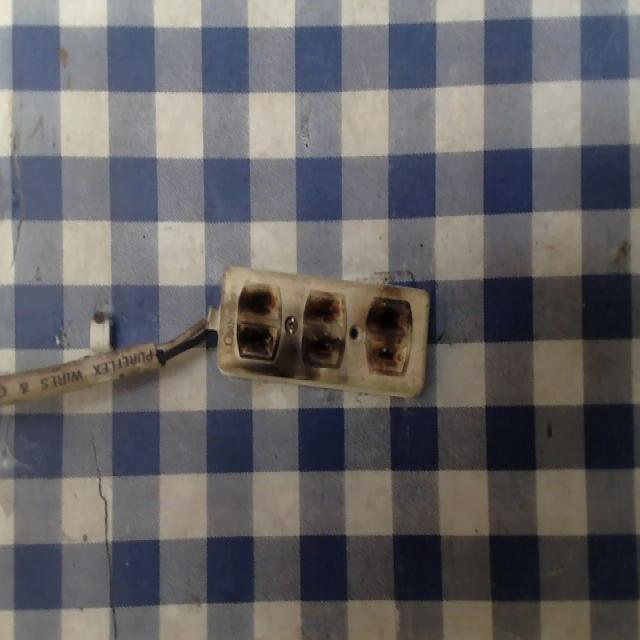-: (233, 277, 282, 367), (364, 295, 413, 376), (297, 287, 345, 369)
